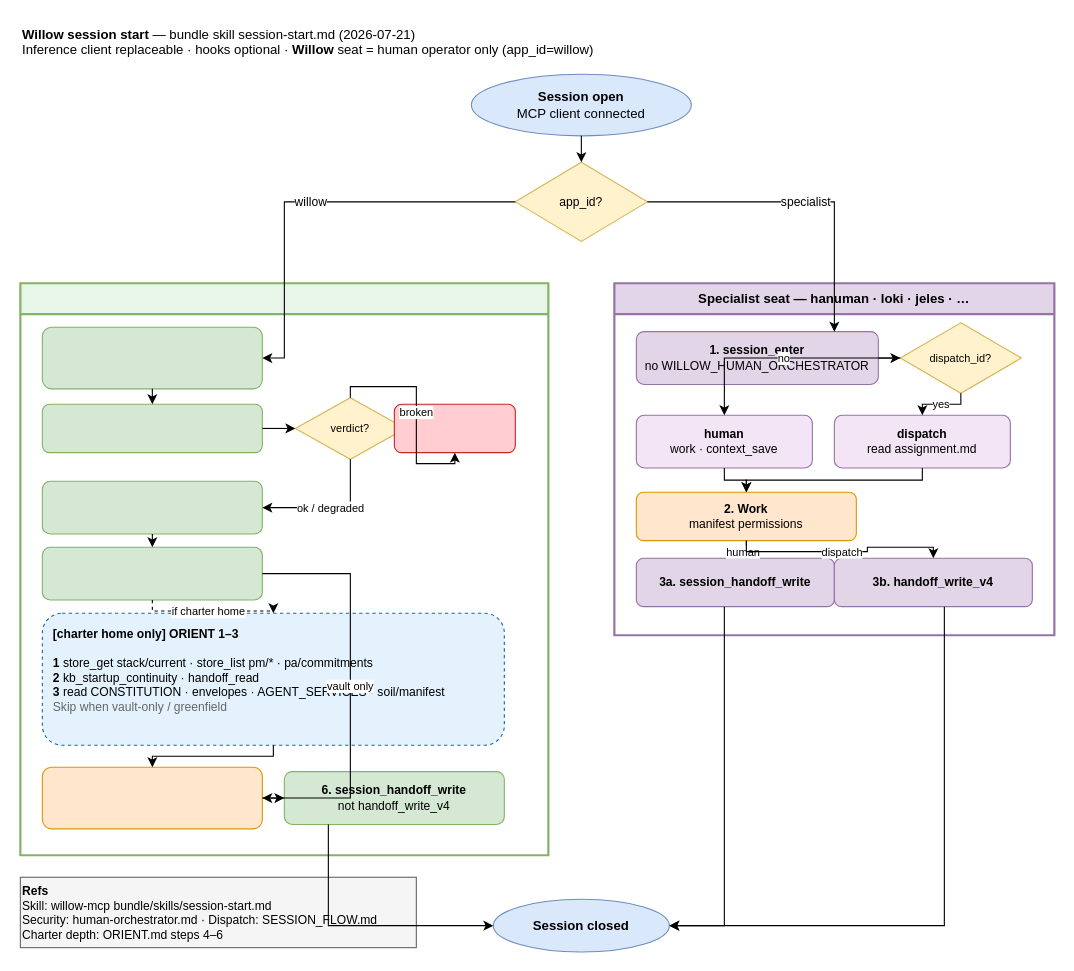
Image size: 1074x971. Some labels were removed from this diagram. Each missing label, with the box of its shape:
1. session_enter human_orchestrator never dispatch_id: (41, 326, 262, 389)
2. diagnostic_summary: (41, 403, 262, 453)
3. dispatch_list desk / packets: (41, 480, 262, 534)
4. commitment_surface worth attention now: (41, 546, 262, 600)
5. Work user-driven mode governance · pm · pa · dispatch · build: (41, 766, 262, 829)
STOP report broken: (393, 403, 515, 453)
Willow seat — app_id=willow · WILLOW_HUMAN_ORCHESTRATOR=1: (19, 282, 549, 856)
